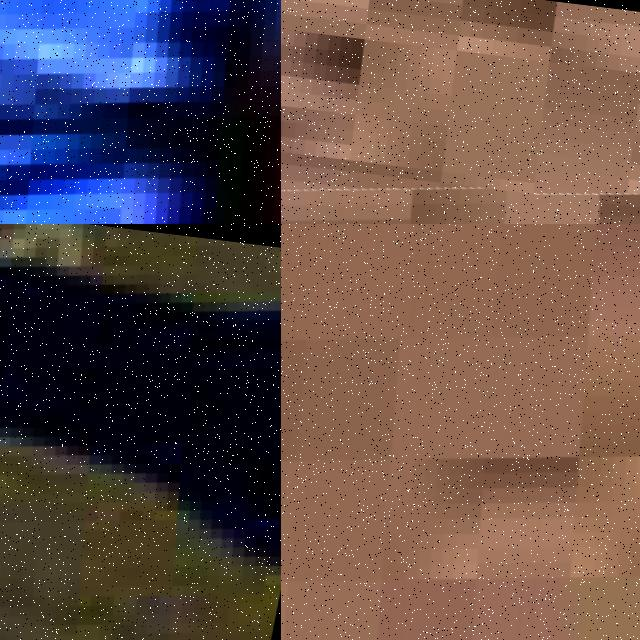0: (281, 224, 640, 640), (0, 0, 281, 224), (281, 137, 640, 224)
drone: (0, 224, 281, 640)
